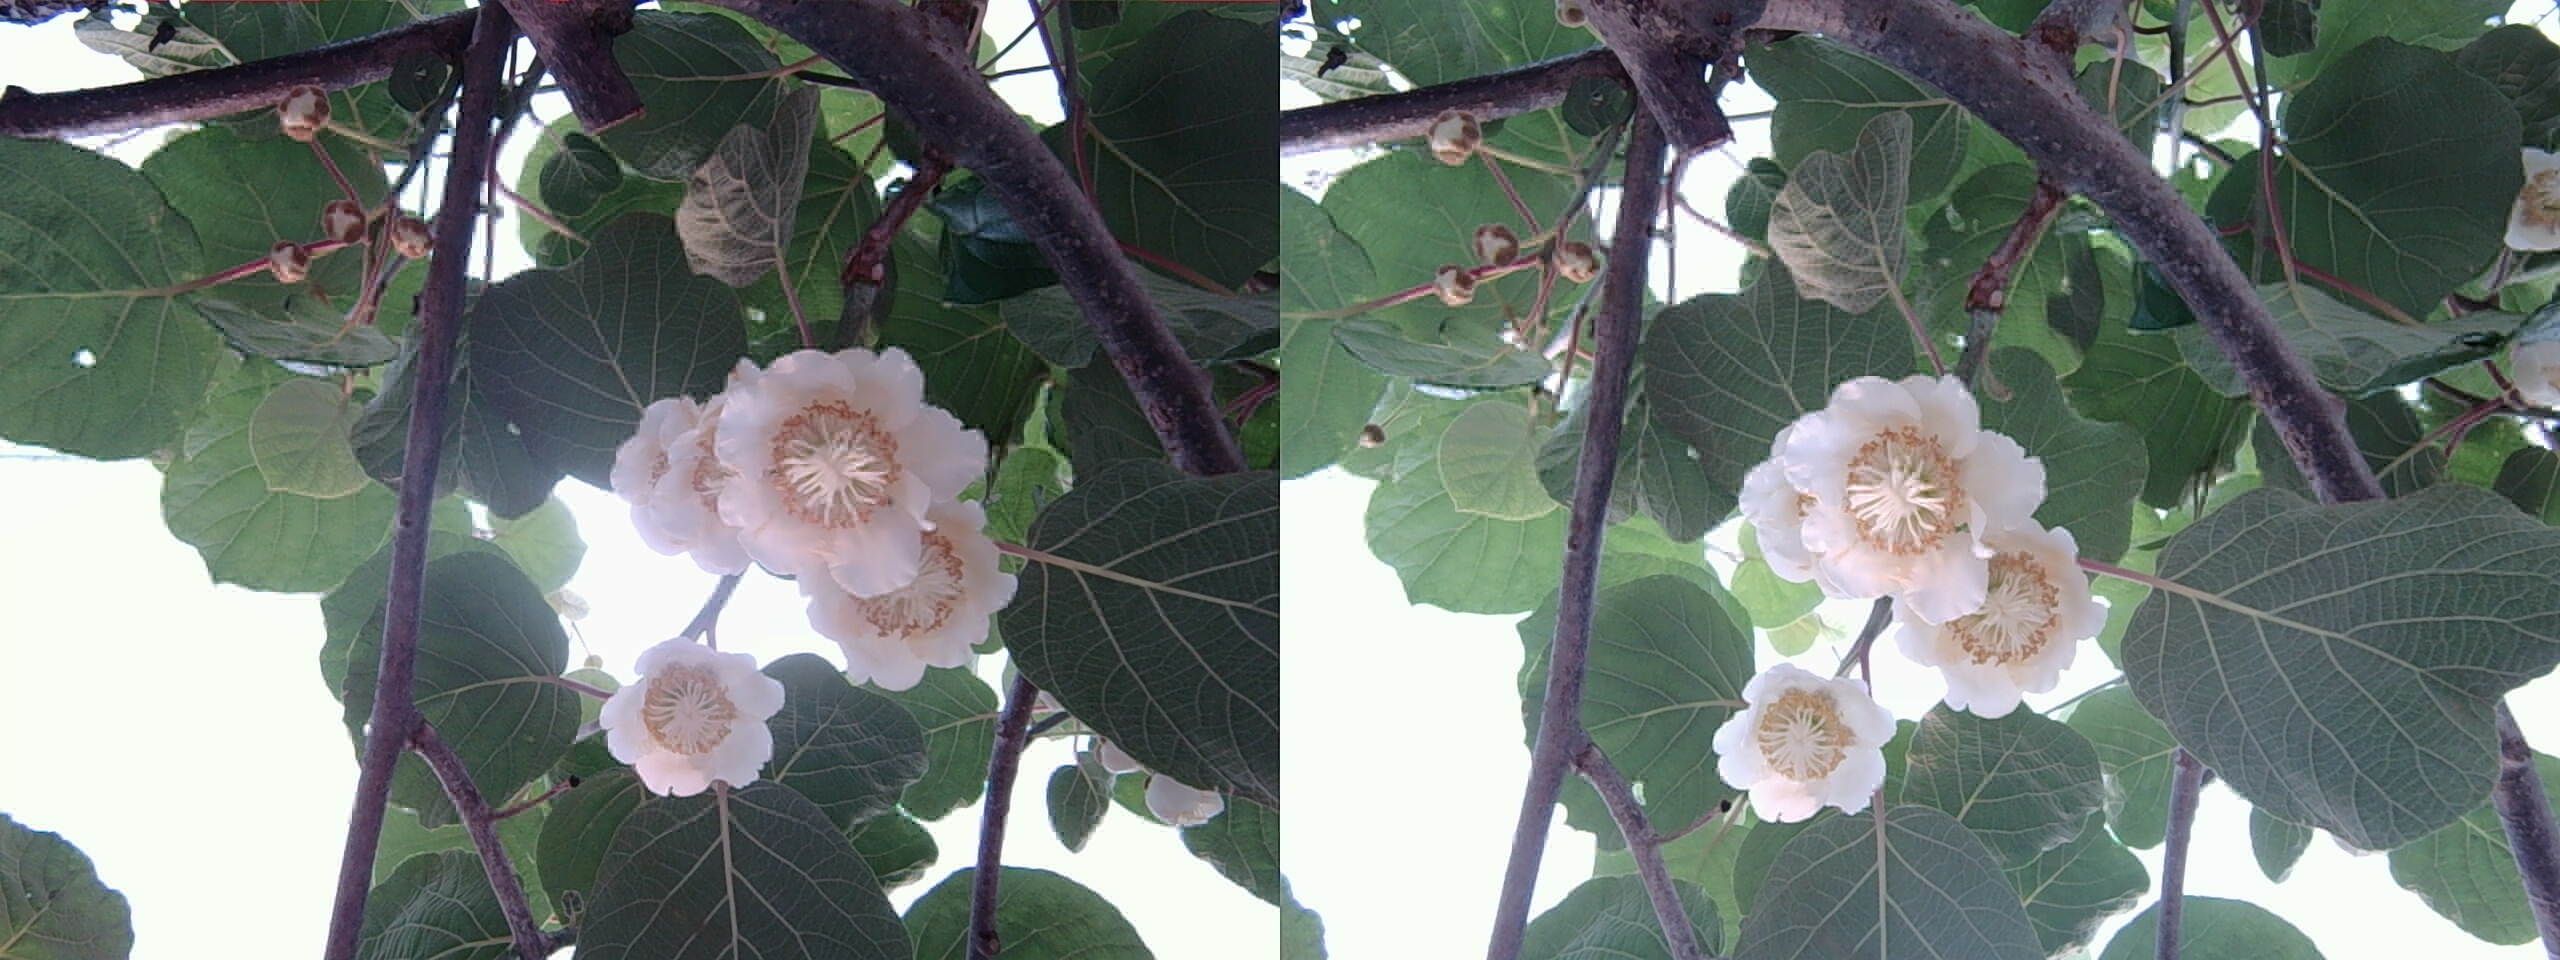flower: (692, 340, 958, 589), (1753, 364, 2024, 606), (1891, 516, 2103, 709), (802, 501, 1019, 684), (1708, 650, 1899, 820), (589, 632, 789, 793), (616, 380, 766, 568)
